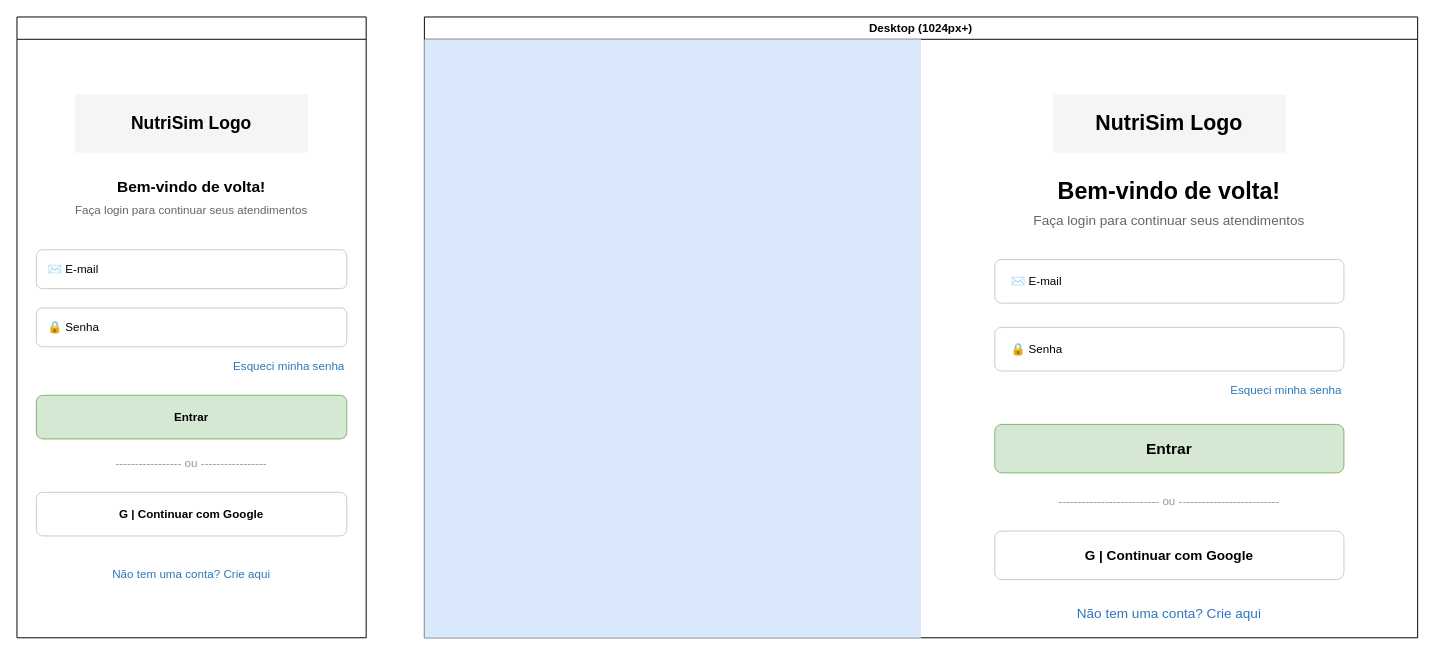
The diagram is 1435 pixels wide and 655 high, and some of its shapes have lost their labels. The box of each missing label's shape, as (x1, y1, x2, y2) in pixels:
[ Ilustração / Imagem de Fundo NutriSim ] "Aperfeiçoe sua prática clínica hoje.": (424, 39, 921, 637)
Mobile (360px): (16, 16, 366, 638)
